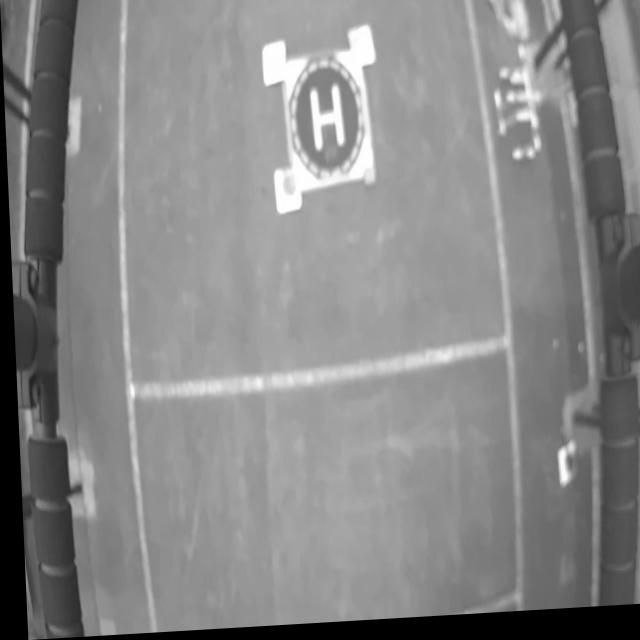Helipad: (308, 88, 344, 155)
